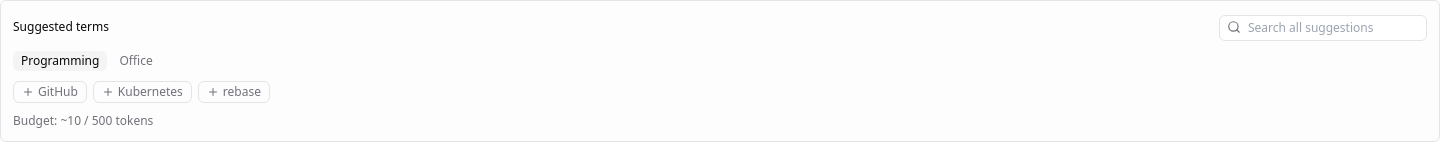
SuggestedTermsPicker › switches sets with the tabs
The image size is (1440, 160).
Click the tab "Office".
click(136, 61)  # box x1=111 y1=51 x2=161 y2=71
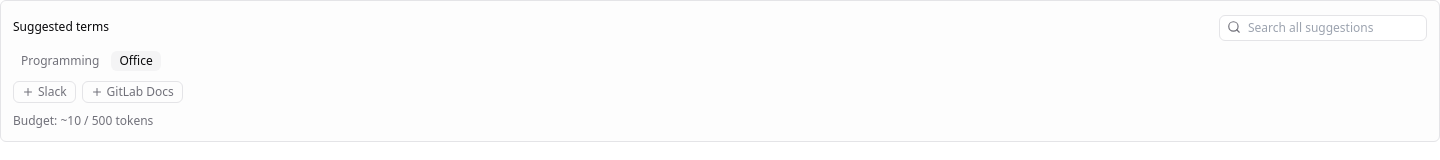
Now the button "Slack" is shown, box x1=13 y1=81 x2=76 y2=103
Now the button "Kubernetes" is gone
